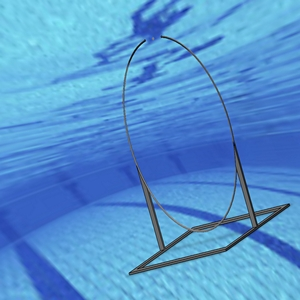circle: (121, 33, 289, 273)
